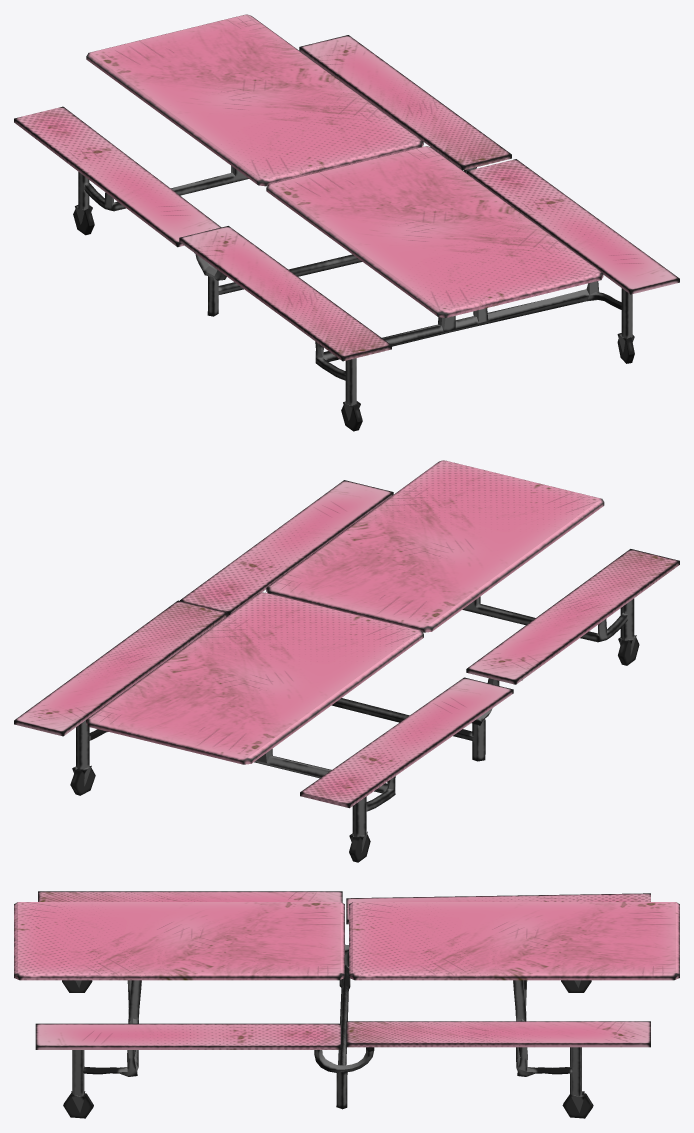
Rendered from PinkBench.glb.
3 views of the same model, one above another, from view 1: azimuth 30°, elevation 25°; view 2: azimuth 150°, elevation 25°; view 3: azimuth 270°, elevation 25° (orthographic). The views are drawn at different scales.
Parts seen in each view (by area): view 1: Bench; view 2: Bench; view 3: Bench.
Boxes of the visible parts, x1=… form: Bench: x1=14, y1=14, x2=679, y2=431; Bench: x1=14, y1=460, x2=679, y2=862; Bench: x1=14, y1=891, x2=679, y2=1118.
Bounding box in the file's own units: 6.46 × 2.3 × 11.91.
1 material, 1 textured.
